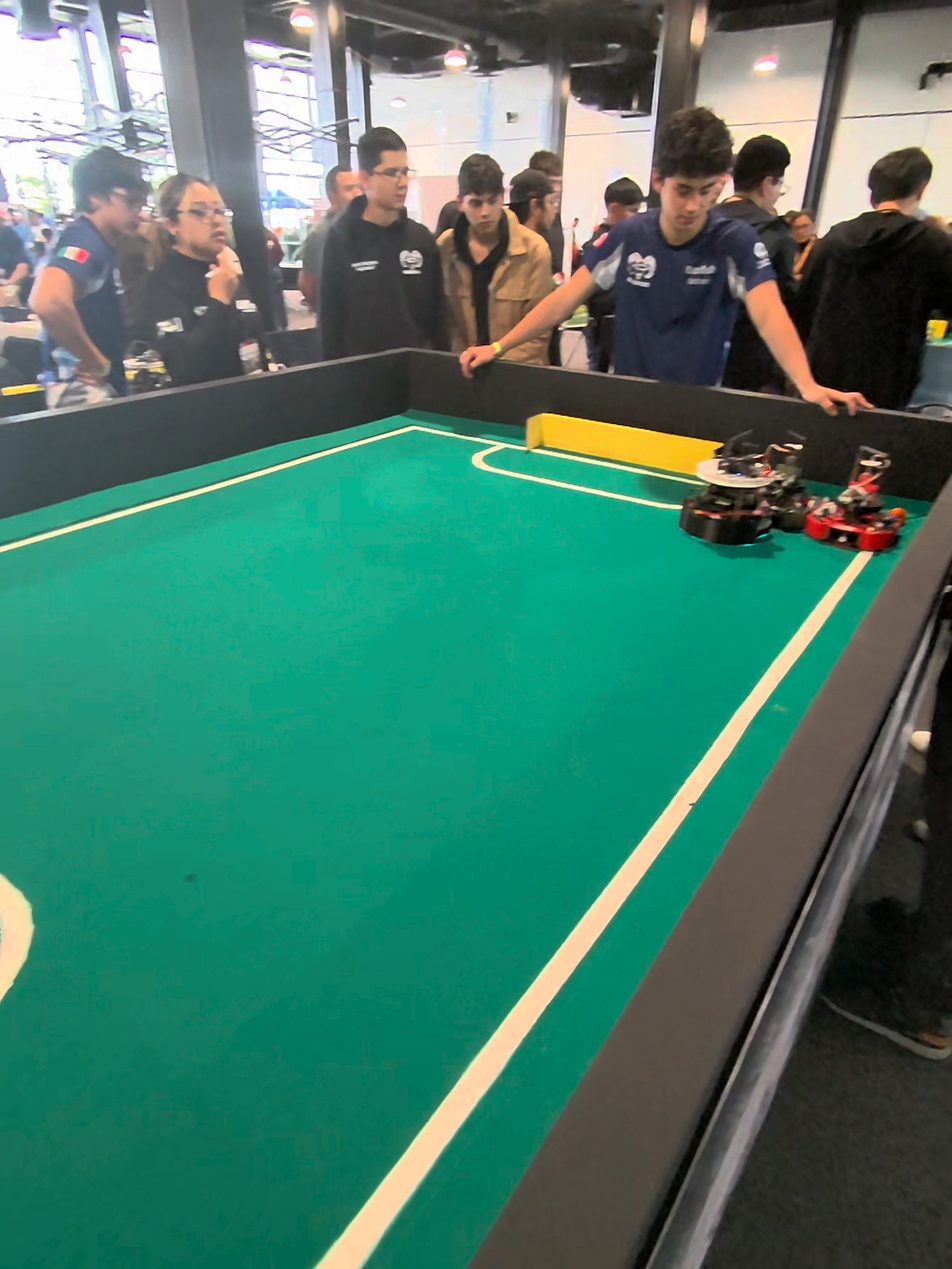Robot: (679, 417, 786, 551), (823, 447, 905, 558)
